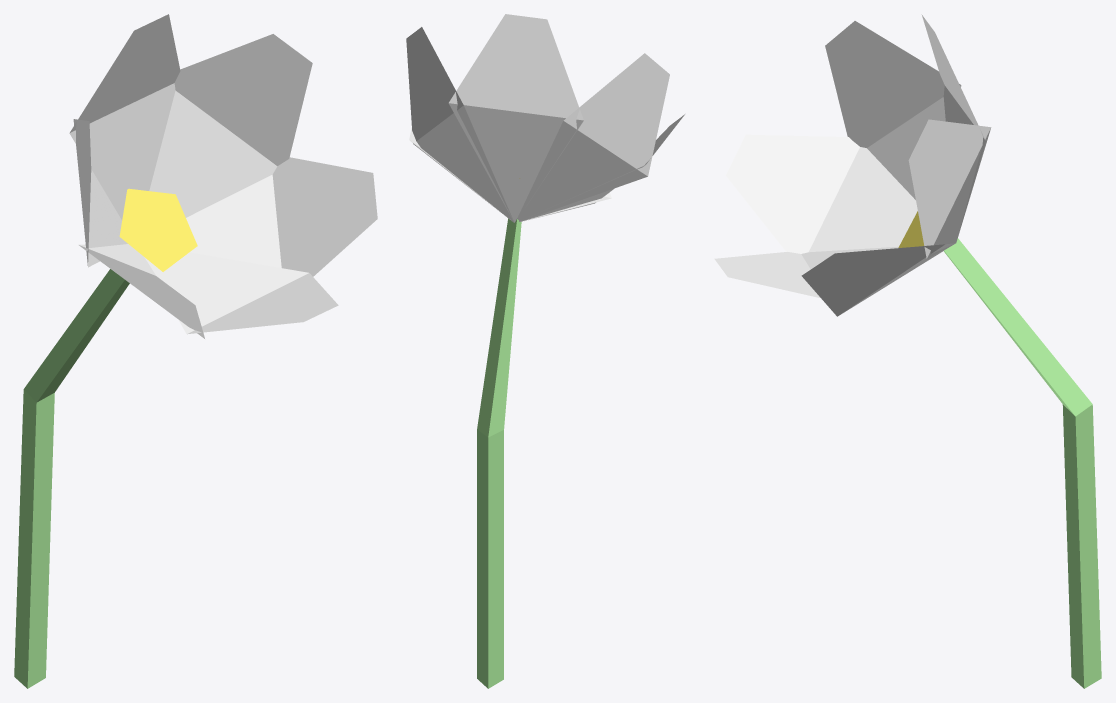
File: Flower_e_OneS_02.fbx
3 views of the same model, side by side, from view 1: azimuth 30°, elevation 25°; view 2: azimuth 150°, elevation 25°; view 3: azimuth 270°, elevation 25° (orthographic). The views are drawn at different scales.
Visible parts, largest first — view 1: Flower_e_OneS_02; view 2: Flower_e_OneS_02; view 3: Flower_e_OneS_02.
Part boxes in pixels (x1,y1,x2,y2): Flower_e_OneS_02: (14, 14, 377, 688); Flower_e_OneS_02: (406, 14, 684, 688); Flower_e_OneS_02: (714, 14, 1101, 688).
Bounding box in the file's own units: 14.44 × 34.13 × 17.69.
